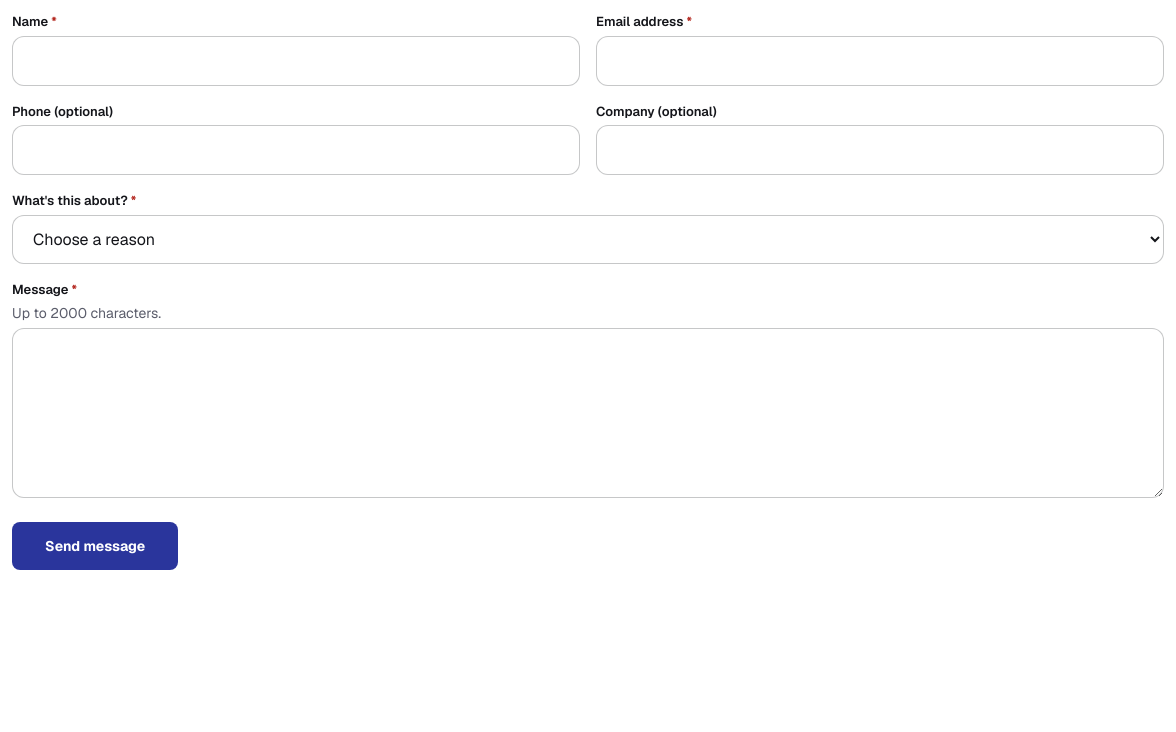
it: ContactForm › shows validation errors for a fully empty submission
Click the button "Send message" at (95, 546), box [12, 522, 178, 570]
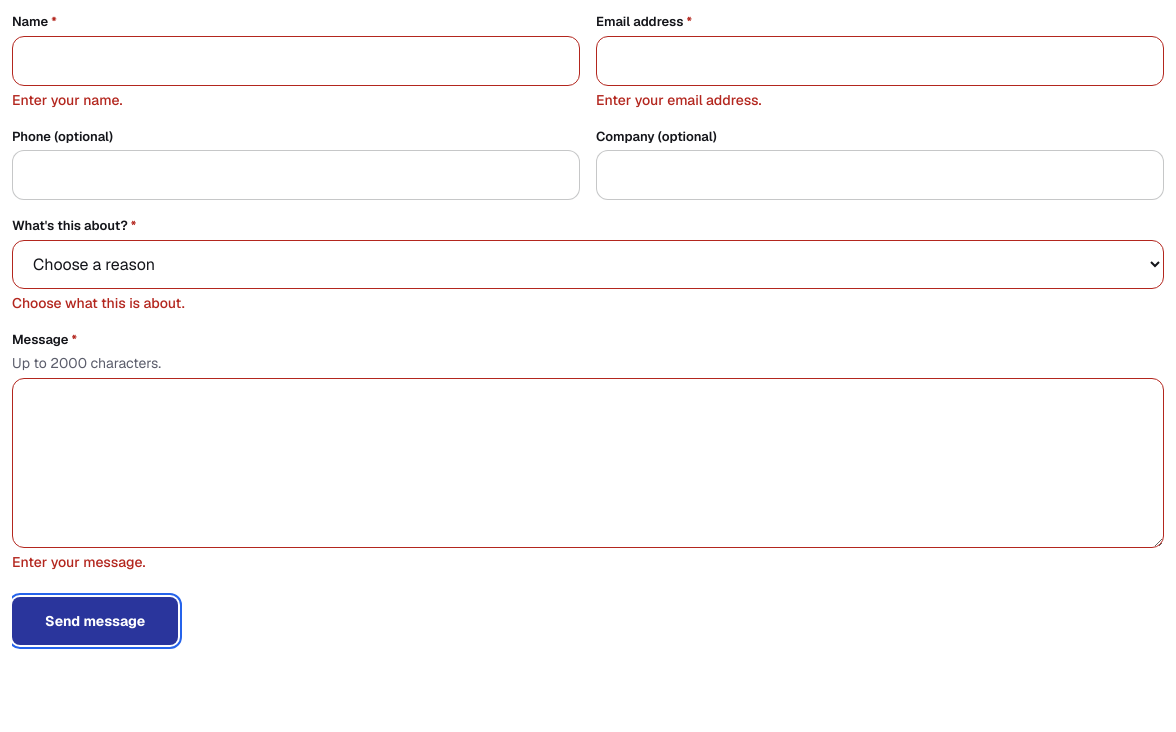
expect the text "Enter your name." is shown: met, box [12, 90, 122, 108]
expect the text "Enter your email address." is shown: met, box [596, 90, 762, 108]
expect the text "Choose what this is about." is shown: met, box [12, 294, 185, 312]
